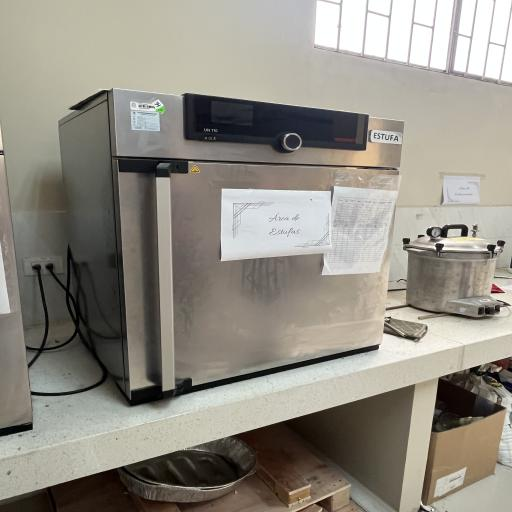Estufa_Memmert: (48, 80, 412, 410)
